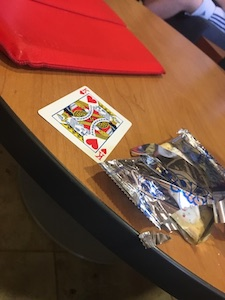KingOfHearts: (34, 80, 134, 164)
